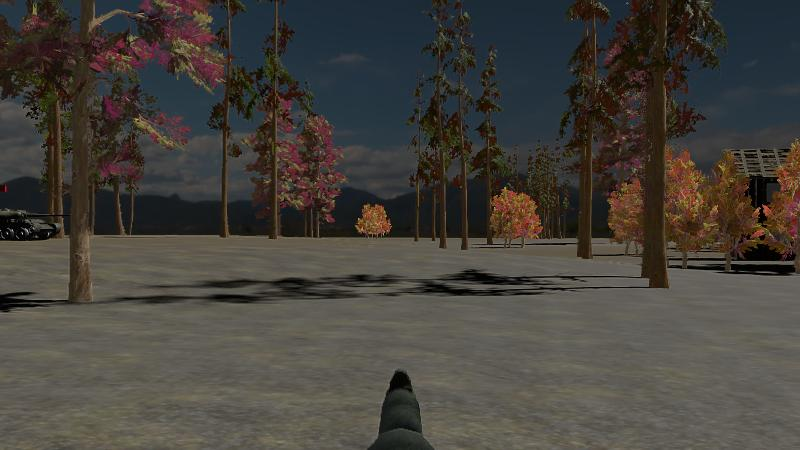House: (715, 146, 799, 262)
Tank: (0, 205, 73, 243)
